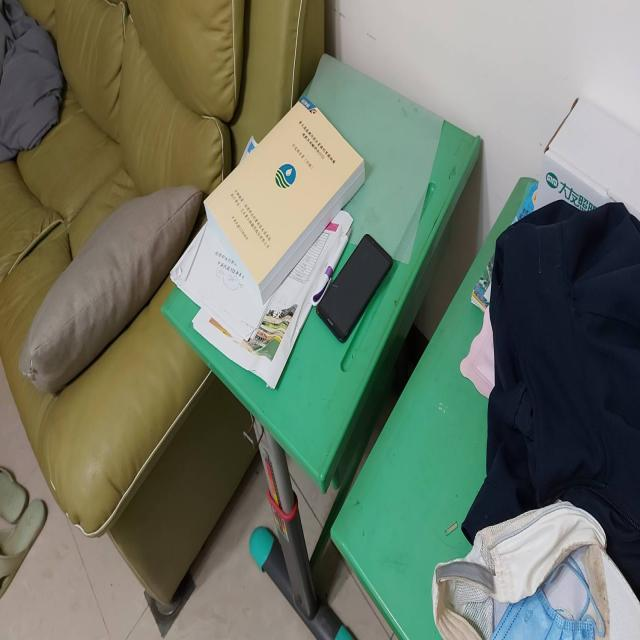Smartphone: (317, 233, 393, 342)
